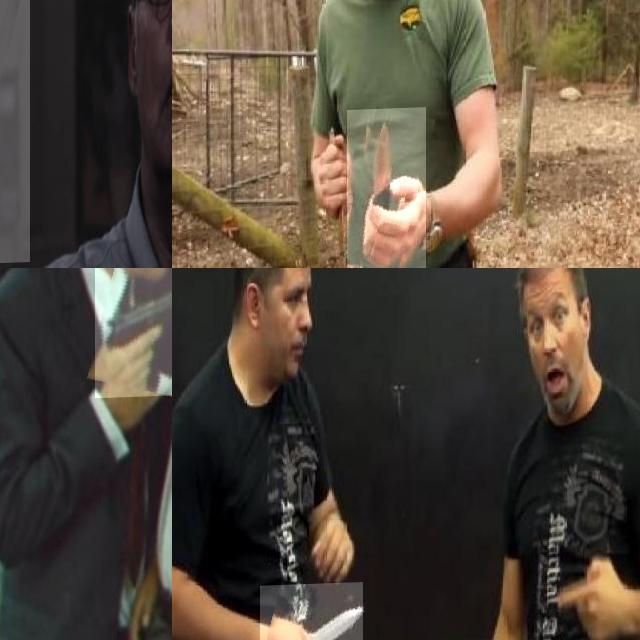-: (347, 109, 426, 268), (260, 583, 363, 640)
gun-knife-thesis - v11 Yolov5 augmented: (0, 0, 72, 267), (95, 268, 172, 399)
